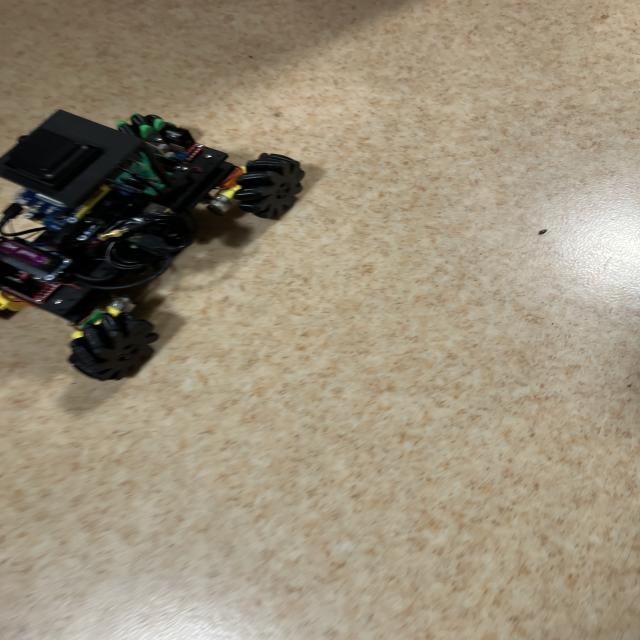robot: (0, 110, 304, 381)
